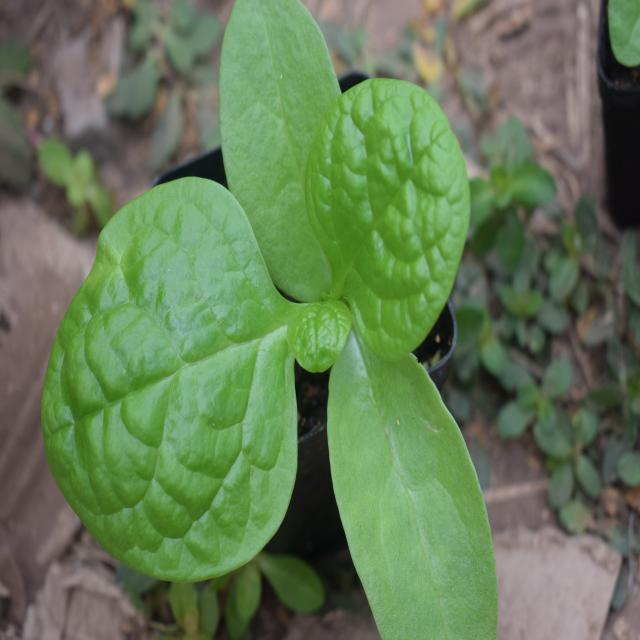Ceylon spinach: (57, 45, 545, 640)
